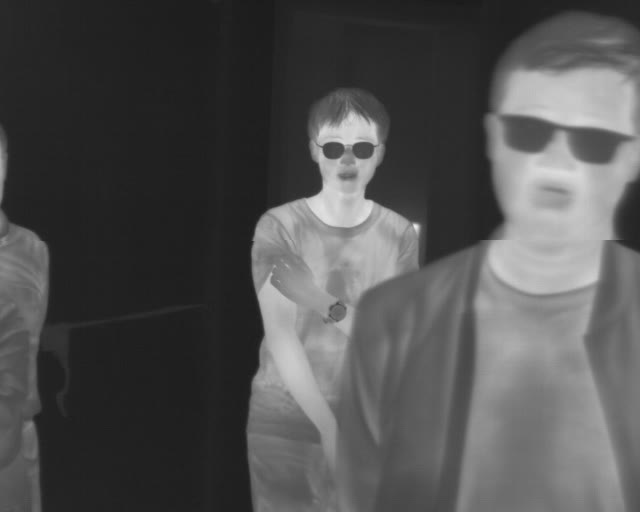face: (482, 9, 640, 250), (307, 86, 389, 198)
